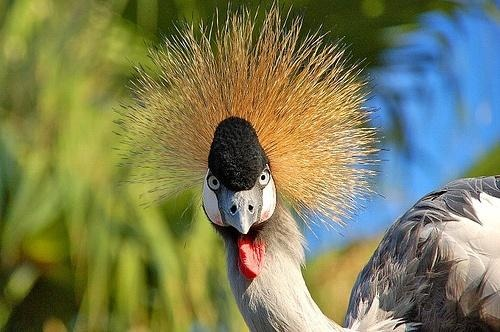bird: (113, 3, 500, 332)
